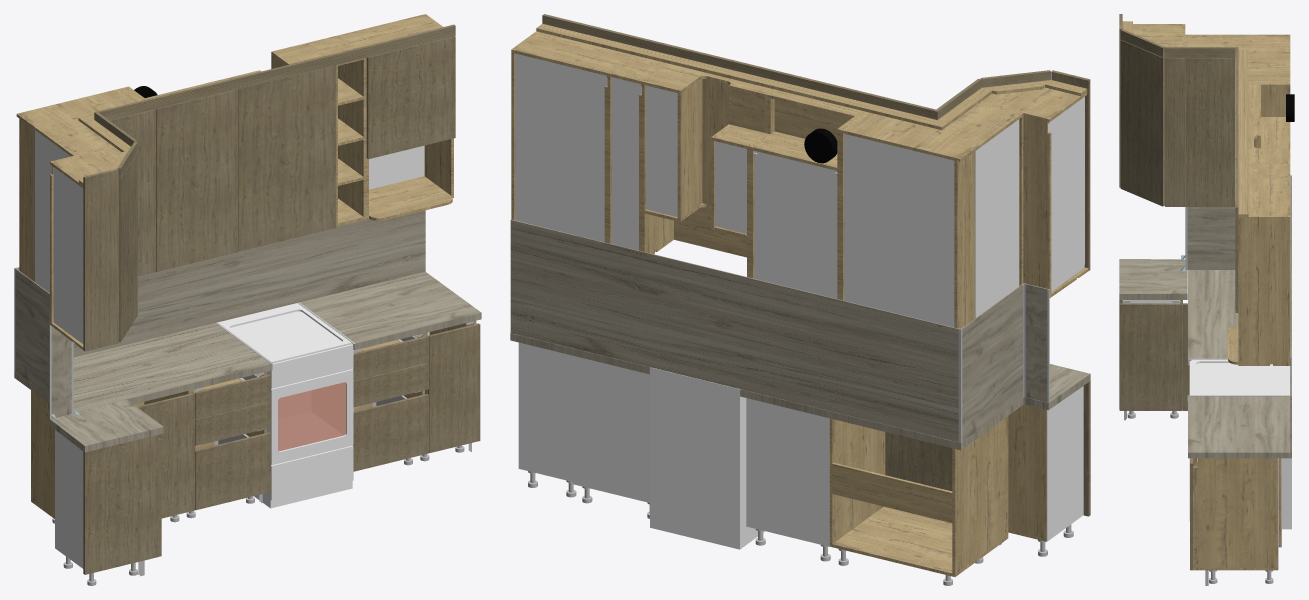
3 views of the same model, side by side, from view 1: azimuth 30°, elevation 25°; view 2: azimuth 150°, elevation 25°; view 3: azimuth 270°, elevation 25° (orthographic). The views are drawn at different scales.
Visible parts, largest first — view 1: node_0042, node_0132, node_0141, node_0043, node_0029, node_0151, node_0045, node_0118, node_0086, node_0115, node_0099, node_0060 (+31 smaller); view 2: node_0042, node_0107, node_0148, node_0070, node_0092, node_0136, node_0053, node_0106, node_0041, node_0081, node_0038, node_0115 (+41 smaller); view 3: node_0079, node_0145, node_0102, node_0030, node_0121, node_0045, node_0043, node_0120, node_0041, node_0109, node_0044, node_0068 (+22 smaller).
Boxes of the visible parts, left/top/right/bottom form: node_0042: left=16, top=210, right=425, bottom=357; node_0132: left=238, top=65, right=336, bottom=251; node_0141: left=156, top=89, right=237, bottom=271; node_0043: left=14, top=323, right=272, bottom=412; node_0029: left=83, top=434, right=158, bottom=574; node_0151: left=366, top=36, right=455, bottom=159; node_0045: left=300, top=271, right=481, bottom=349; node_0118: left=83, top=168, right=118, bottom=351; node_0086: left=427, top=323, right=480, bottom=453; node_0115: left=53, top=167, right=83, bottom=343; node_0099: left=195, top=432, right=270, bottom=509; node_0060: left=353, top=394, right=428, bottom=471; node_0042: left=510, top=219, right=960, bottom=442; node_0107: left=844, top=134, right=954, bottom=327; node_0148: left=515, top=53, right=607, bottom=241; node_0070: left=651, top=370, right=738, bottom=548; node_0092: left=746, top=398, right=829, bottom=546; node_0136: left=754, top=151, right=837, bottom=298; node_0053: left=573, top=356, right=649, bottom=502; node_0106: left=975, top=119, right=1019, bottom=318; node_0041: left=961, top=283, right=1023, bottom=441; node_0081: left=518, top=342, right=572, bottom=481; node_0038: left=952, top=416, right=1008, bottom=573; node_0115: left=1048, top=97, right=1084, bottom=291; node_0079: left=1193, top=458, right=1277, bottom=567; node_0145: left=1238, top=215, right=1290, bottom=365; node_0102: left=1185, top=58, right=1234, bottom=206; node_0030: left=1119, top=303, right=1182, bottom=410; node_0121: left=1120, top=40, right=1164, bottom=206; node_0045: left=1188, top=396, right=1291, bottom=458; node_0043: left=1188, top=270, right=1291, bottom=358; node_0120: left=1165, top=58, right=1185, bottom=206; node_0041: left=1187, top=204, right=1235, bottom=269; node_0109: left=1188, top=34, right=1290, bottom=82; node_0044: left=1119, top=259, right=1187, bottom=299; node_0068: left=1196, top=363, right=1277, bottom=393.
Bounding box in the file's own units: 2.64 × 2.41 × 1.01.
15 materials, 5 textured.
